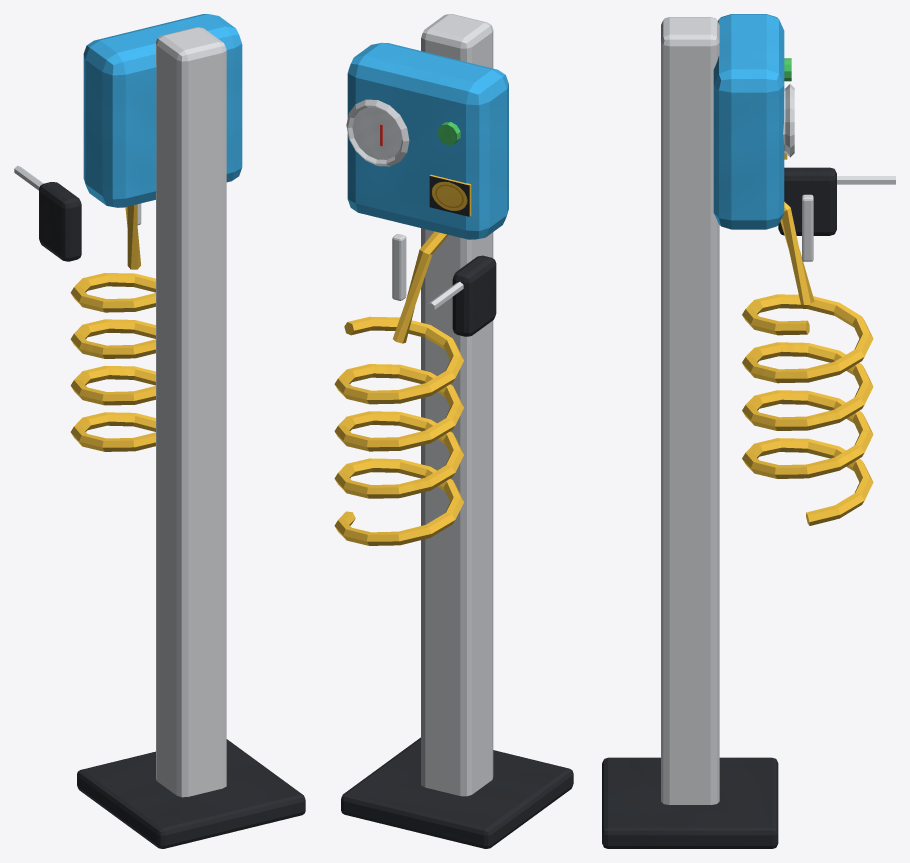
Rendered from SW_AirGun.glb.
The picture shows the model from 3 angles, left to right: view 1: azimuth 30°, elevation 25°; view 2: azimuth 150°, elevation 25°; view 3: azimuth 270°, elevation 25°; orthographic projection. The views are drawn at different scales.
Parts seen in each view (by area): view 1: Post, Hose; view 2: Post, Hose; view 3: Post, Hose.
Boxes of the visible parts, <box> form: Post: <box>77,14,305,848</box>; Hose: <box>14,165,155,451</box>; Post: <box>341,14,573,848</box>; Hose: <box>334,231,496,545</box>; Post: <box>602,14,794,848</box>; Hose: <box>742,167,895,525</box>.
Size of the model in its own units: 0.32 by 1.48 by 0.5.
2 materials, 1 textured.
